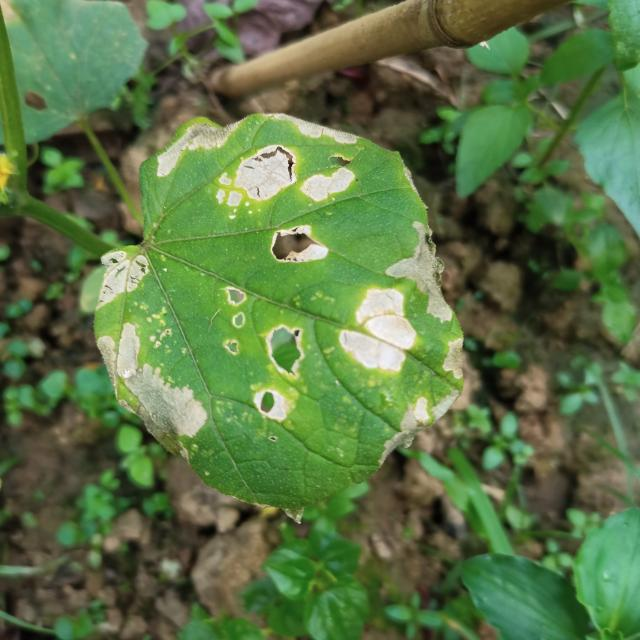disease_cucumber: (212, 222, 477, 470), (142, 100, 368, 266), (75, 245, 211, 492)
